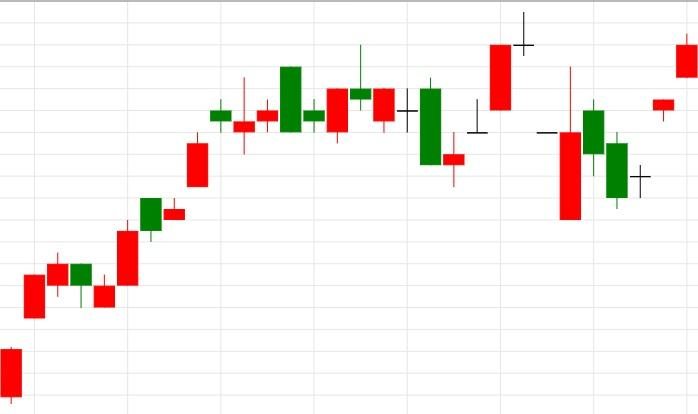bearish_engulfing_fall: (93, 66, 302, 308)
